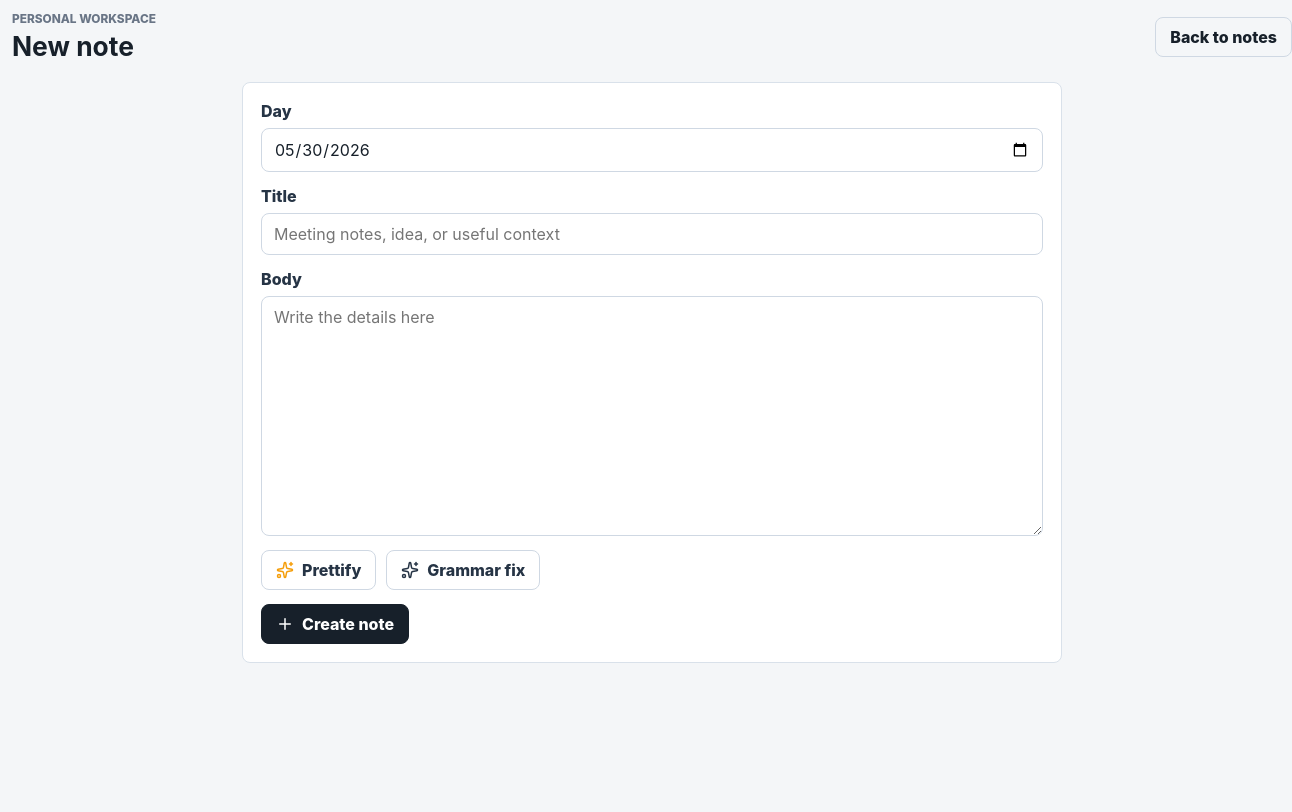
Test: NotesPage › prettifies disorganized text on the new note page
Type "cloud" into the field labelled "Title".
click(652, 234); type("cloud")  # box x1=261 y1=213 x2=1043 y2=255
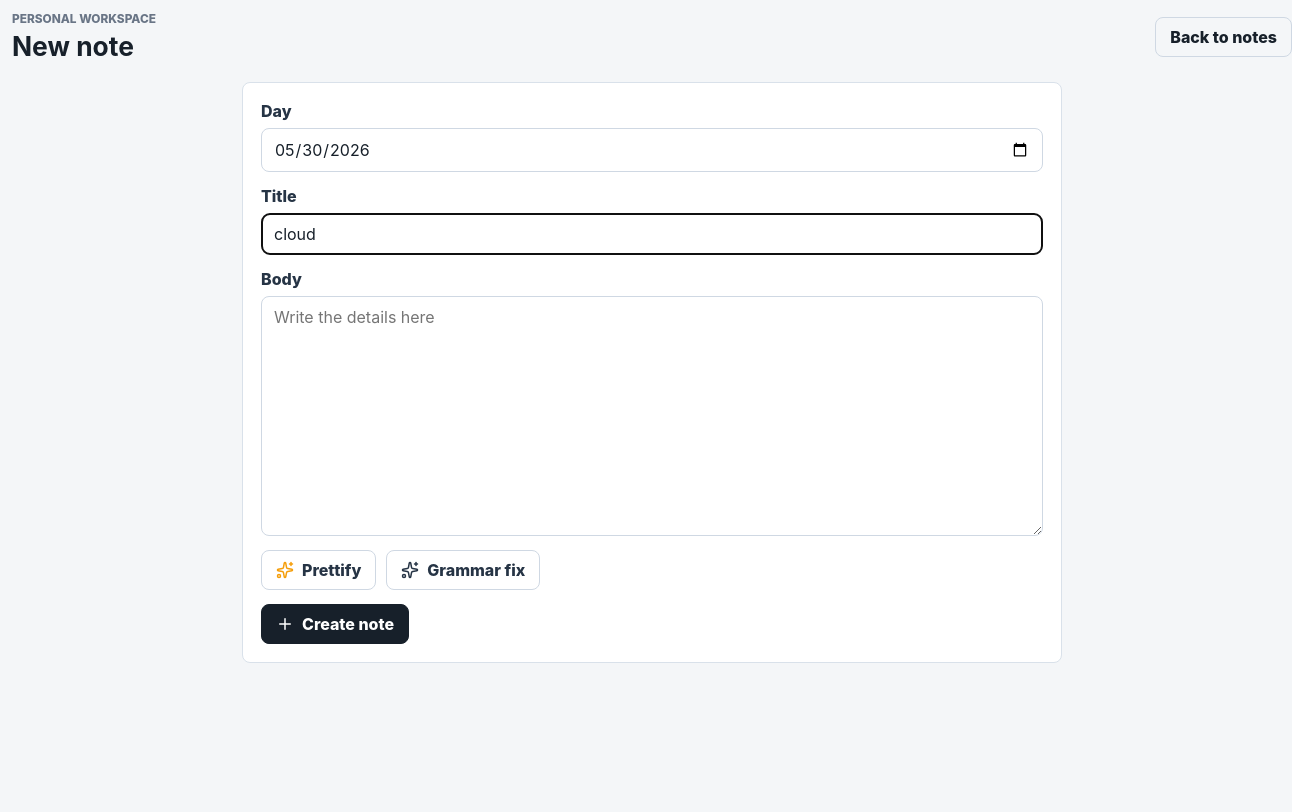
Type "cloud maybe scale infra random notes bullets and bad english" into the text box labelled "Body".
click(652, 416); type("cloud maybe scale infra random notes bullets and bad english")  # box x1=261 y1=296 x2=1043 y2=536
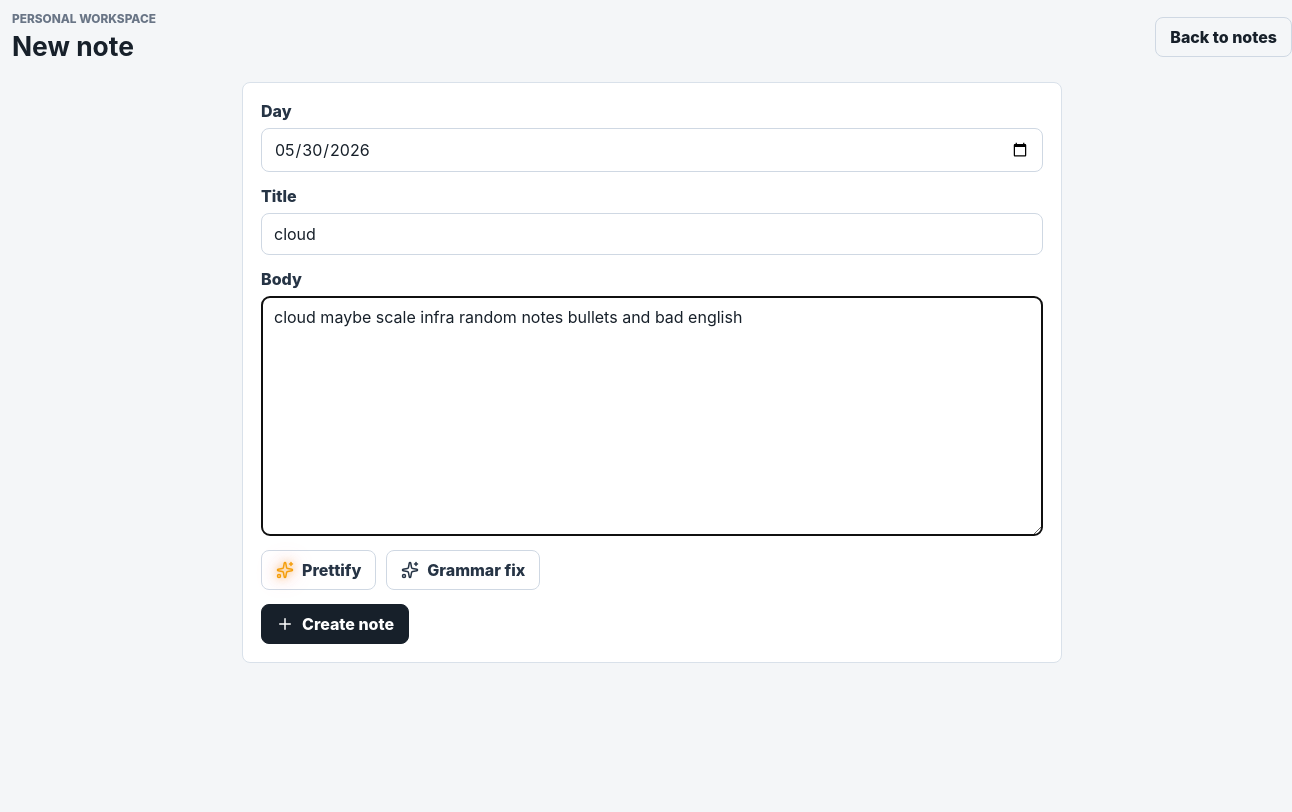
Click the button "Prettify".
click(319, 570)  # box x1=261 y1=550 x2=376 y2=590
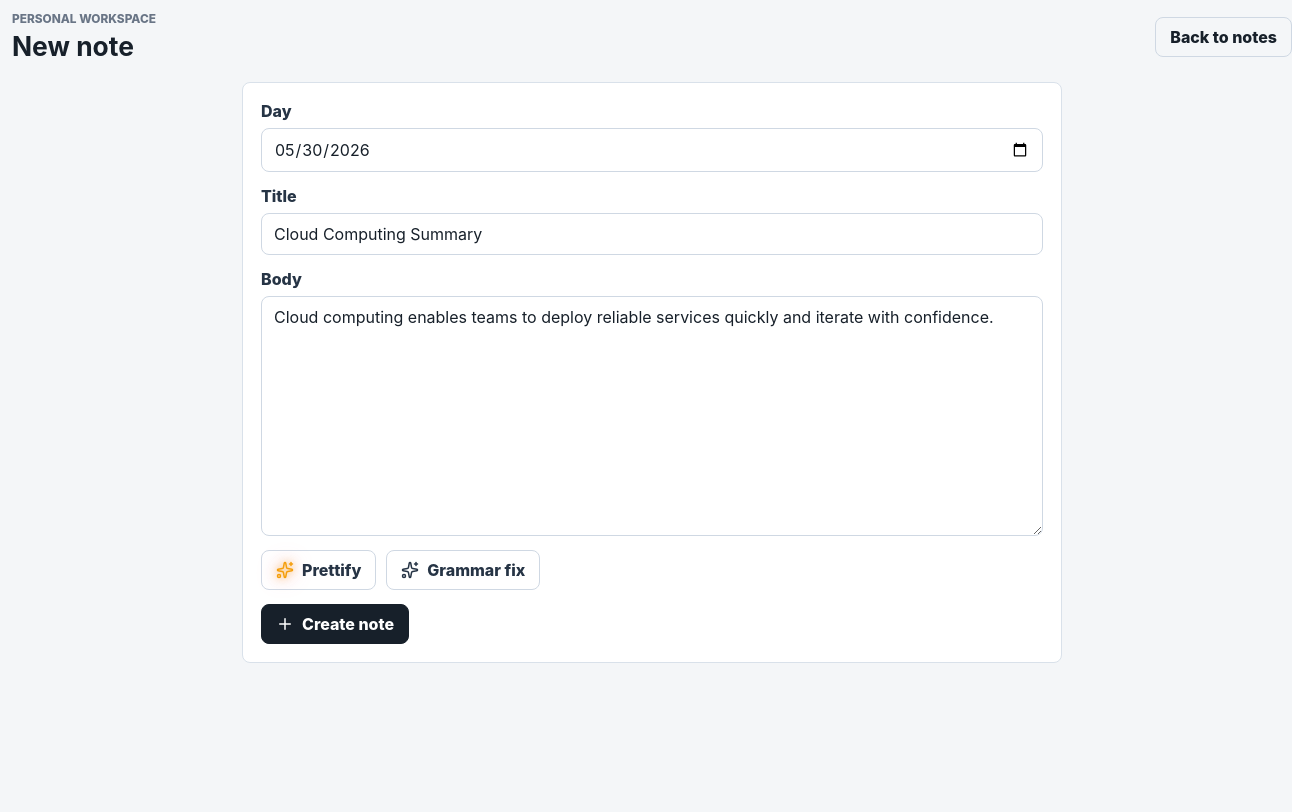
Check: the field labelled "Title" holds "Cloud Computing Summary", box x1=261 y1=213 x2=1043 y2=255
Check: the text box labelled "Body" holds "Cloud computing enables teams to deploy reliable services quickly and iterate with confidence.", box x1=261 y1=296 x2=1043 y2=536
